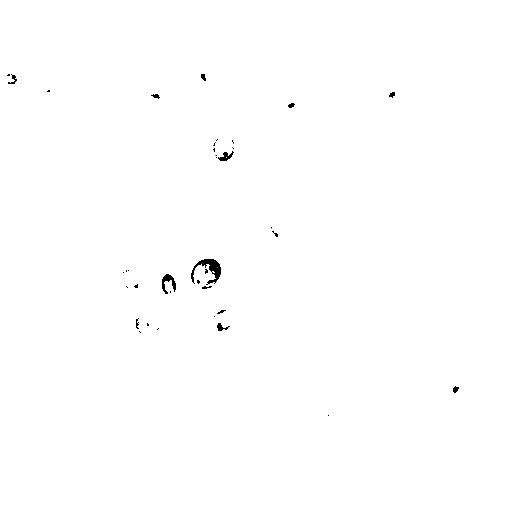micro-algae: (368, 79, 409, 121), (29, 75, 67, 114), (204, 304, 242, 341), (270, 86, 309, 120), (189, 255, 225, 291), (443, 371, 474, 405), (113, 267, 147, 297), (267, 207, 296, 242), (133, 313, 163, 341), (211, 131, 235, 164), (159, 273, 179, 297), (196, 67, 214, 87), (2, 73, 19, 87)
